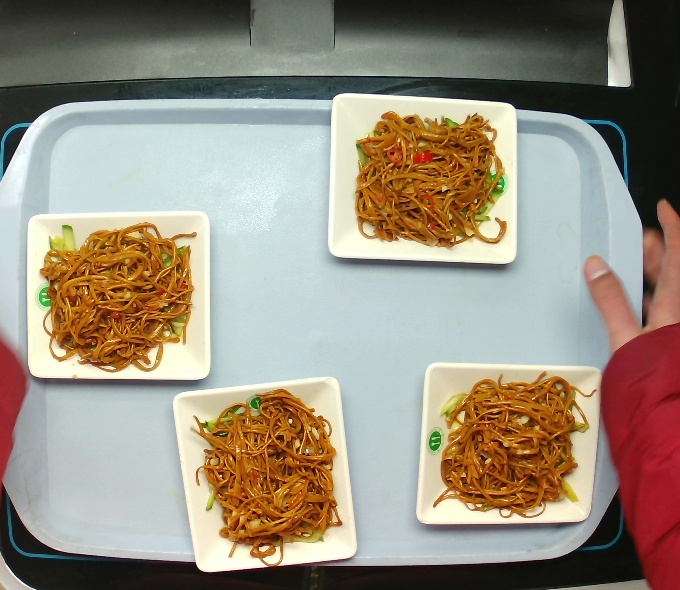wcq-LiangBanChongCaoHua: (196, 385, 349, 574), (32, 220, 200, 380), (432, 371, 597, 527), (350, 105, 510, 253)
